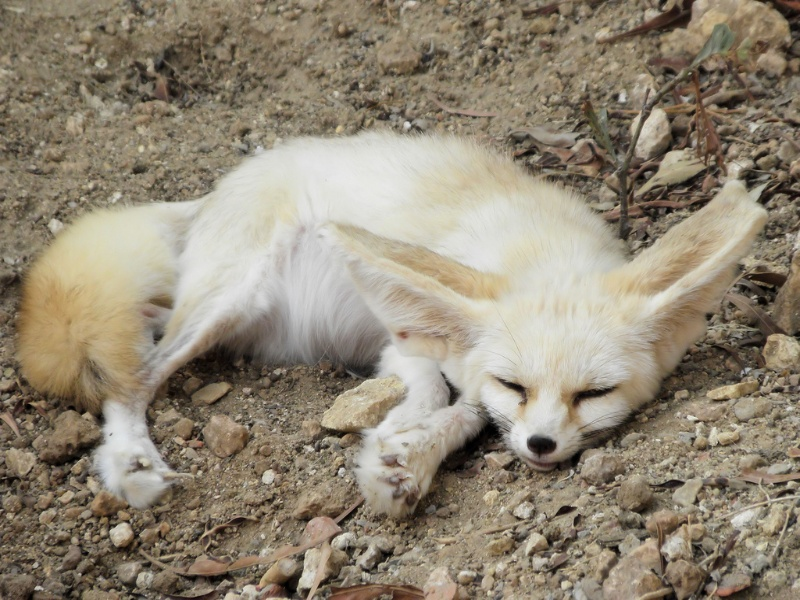fox: (28, 107, 767, 526)
